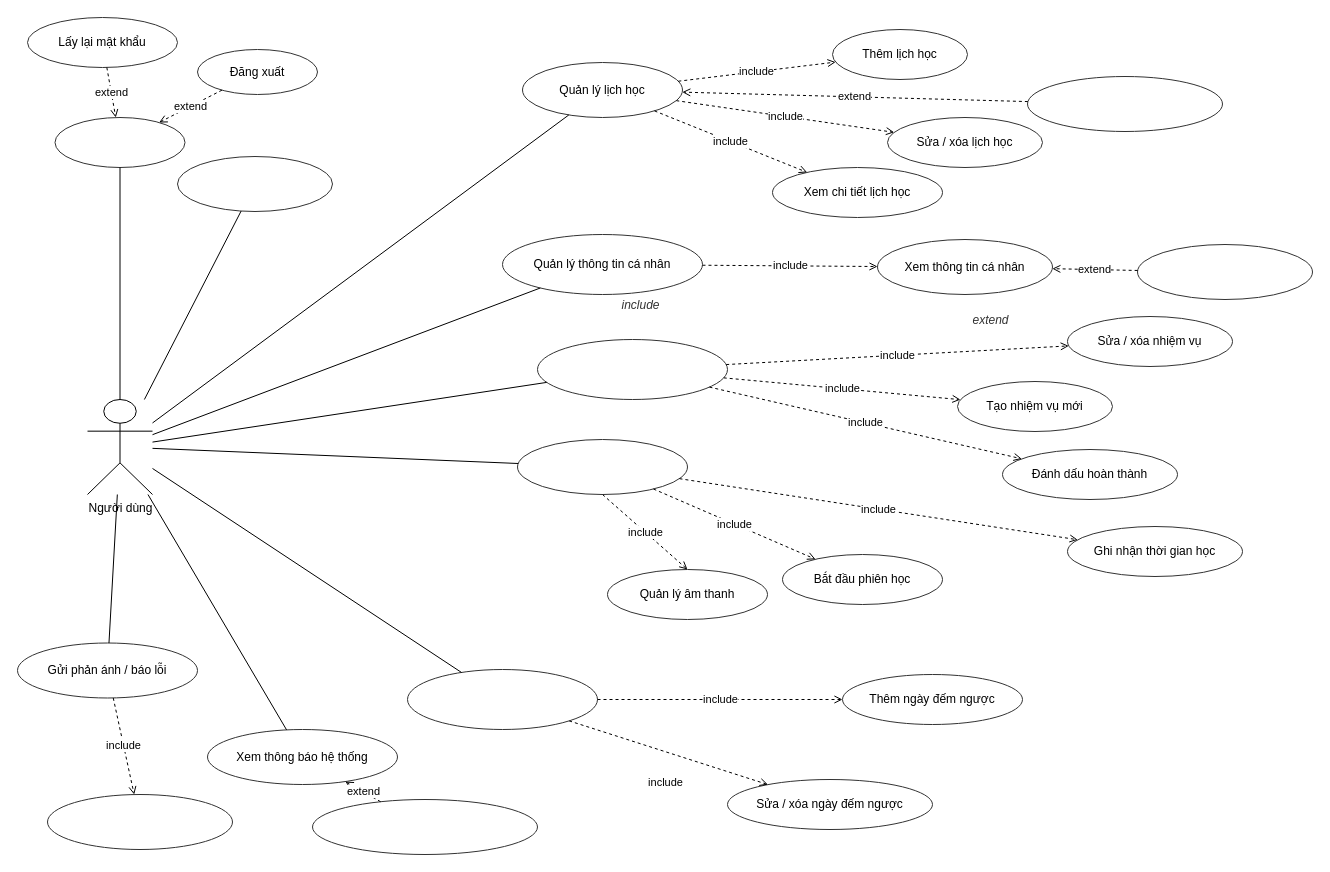
Some shapes in this 1330 by 872 pixel diagram are drawn without their labels. The shapes that lost their labels are listed below. From the top down, each one's centre as x and y in pixels, then its label:
pixel 1124 104: Trích xuất lịch học từ ảnh
pixel 119 142: Đăng nhập
pixel 254 184: Đăng ký tài khoản
pixel 1224 272: Sửa thông tin cá nhân
pixel 632 369: Quản lý nhiệm vụ học tập
pixel 602 466: Theo dõi Pomodoro
pixel 502 699: Quản lý ngày đếm ngược
pixel 139 822: Nhập nội dung phản ánh
pixel 425 826: Nhận thông báo trên thanh thông báo
